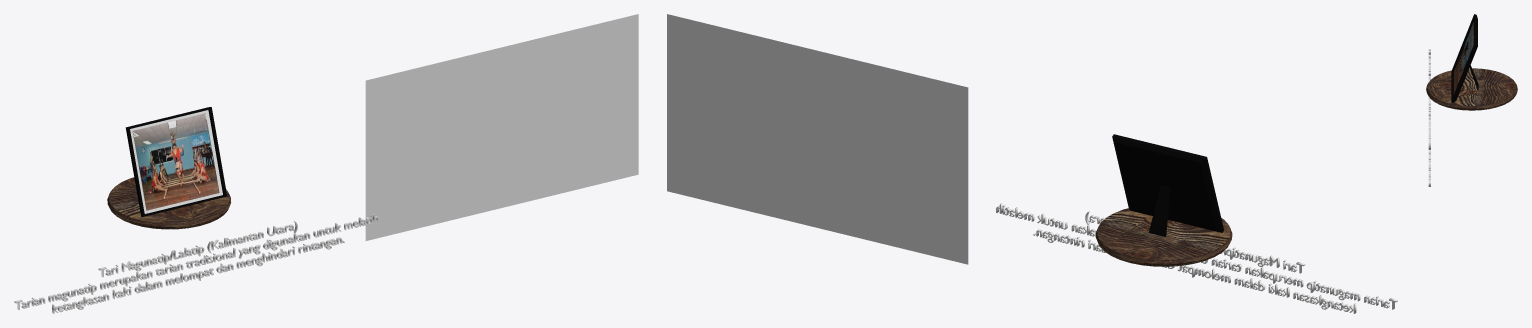
The model's file is 23. Tari Lalatip (Kalimantan Utara).fbx.
The picture shows the model from 3 angles, left to right: view 1: azimuth 30°, elevation 25°; view 2: azimuth 150°, elevation 25°; view 3: azimuth 270°, elevation 25°; orthographic projection. The views are drawn at different scales.
Parts seen in each view (by area): view 1: Plane, Cube.022, Text.001; view 2: Plane, Cube.022, Text.001; view 3: Cube.022, Text.001.
Part boxes in pixels (x1,y1,x2,y2): Plane: (365,14,638,240); Cube.022: (107,107,231,229); Text.001: (14,213,378,313); Plane: (667,14,968,264); Cube.022: (1096,134,1232,266); Text.001: (996,203,1397,313); Cube.022: (1426,14,1517,110); Text.001: (1428,49,1430,186).
Size of the model in its own units: 7532 by 1806 by 1260.
Materials: 6 (3 with a texture image).
